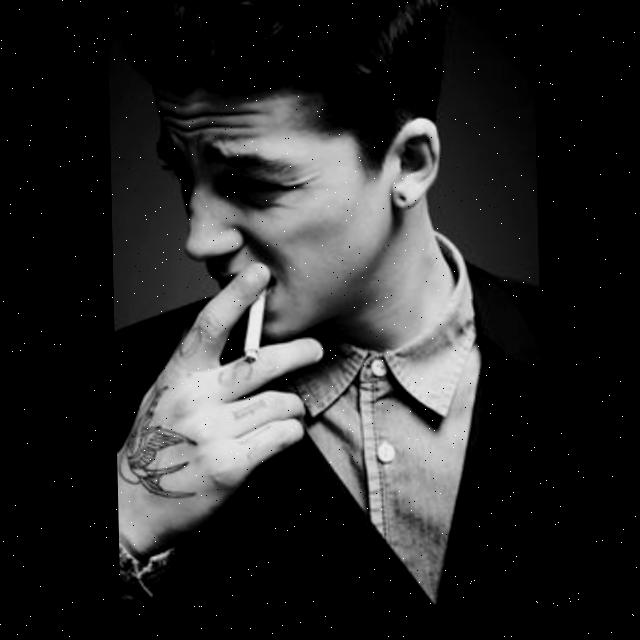cigarette: (240, 284, 266, 364)
